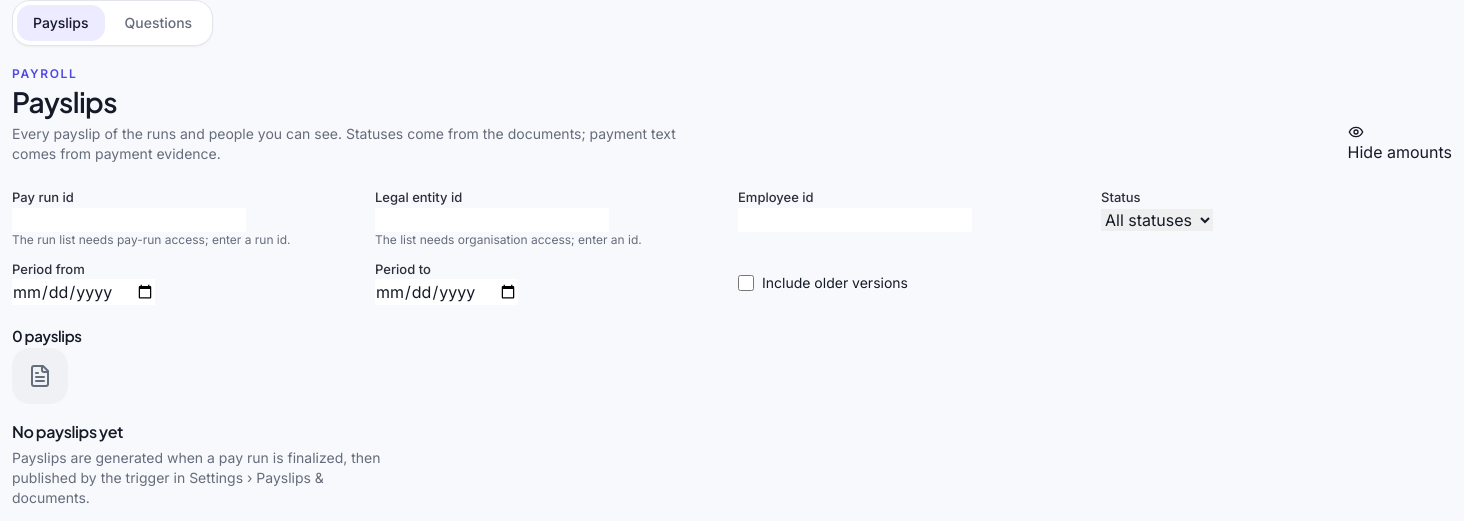
Test: Payslips (HR) › filters by status and sends the filter to the API
This screenshot has width=1464, height=521.
Expected: the heading "No payslips yet" is shown, [12,420,123,442]
Select "Email failed" in the dropdown labelled "Status". click: (1157, 220)
box: [1101,208,1213,230]
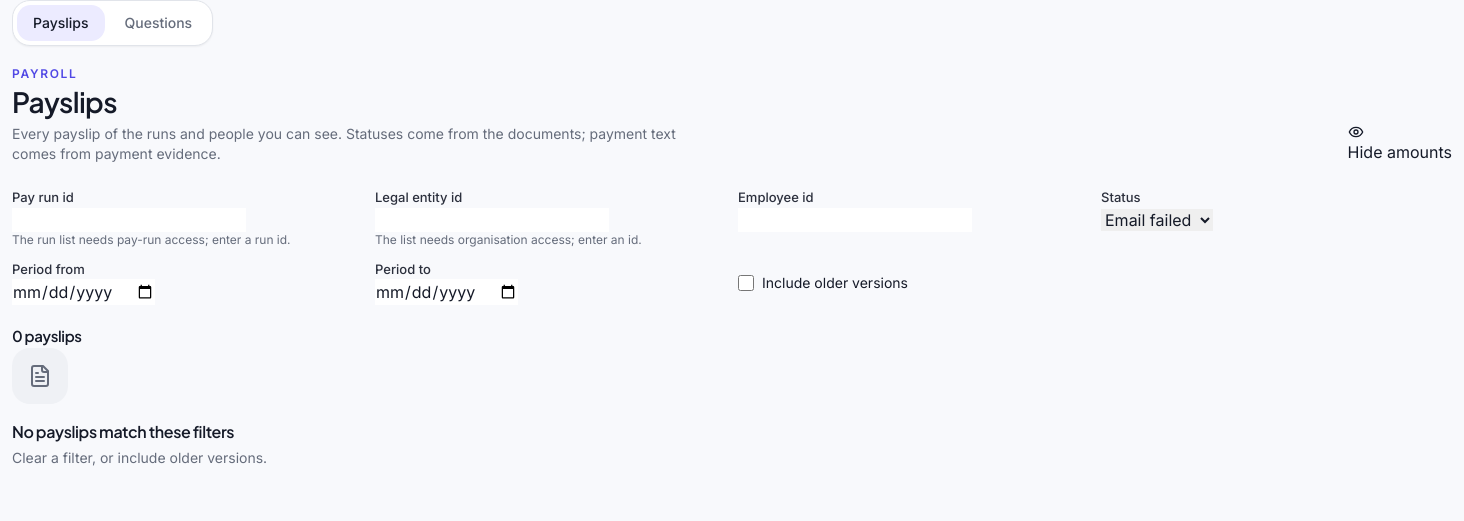
Expected: the heading "No payslips match these filters" is shown, [12,420,234,442]
